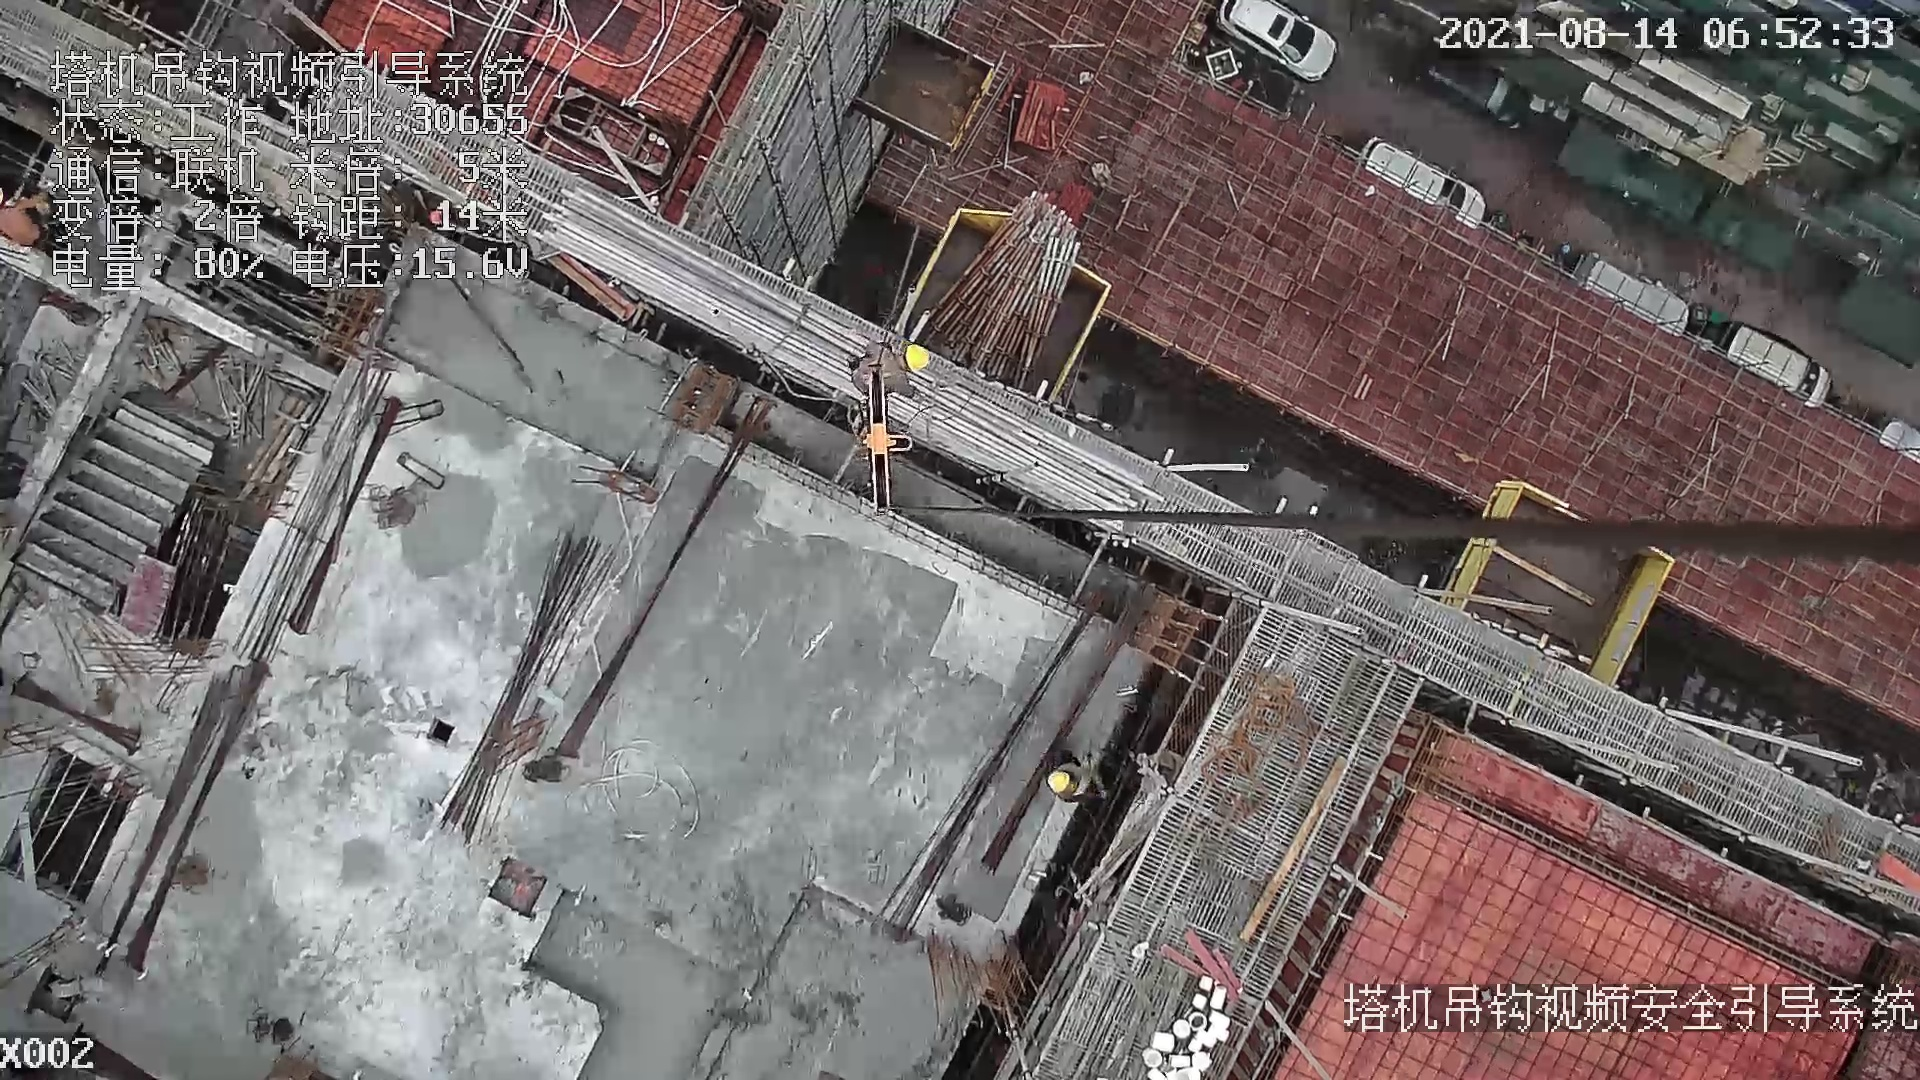helmet: (905, 344, 929, 370), (1046, 771, 1070, 793)
hook: (862, 372, 919, 524)
person: (1040, 745, 1110, 808), (845, 344, 931, 391), (1, 188, 43, 249)
rebar: (534, 190, 1164, 535), (438, 530, 614, 842)
scaffold: (912, 189, 1082, 392)
